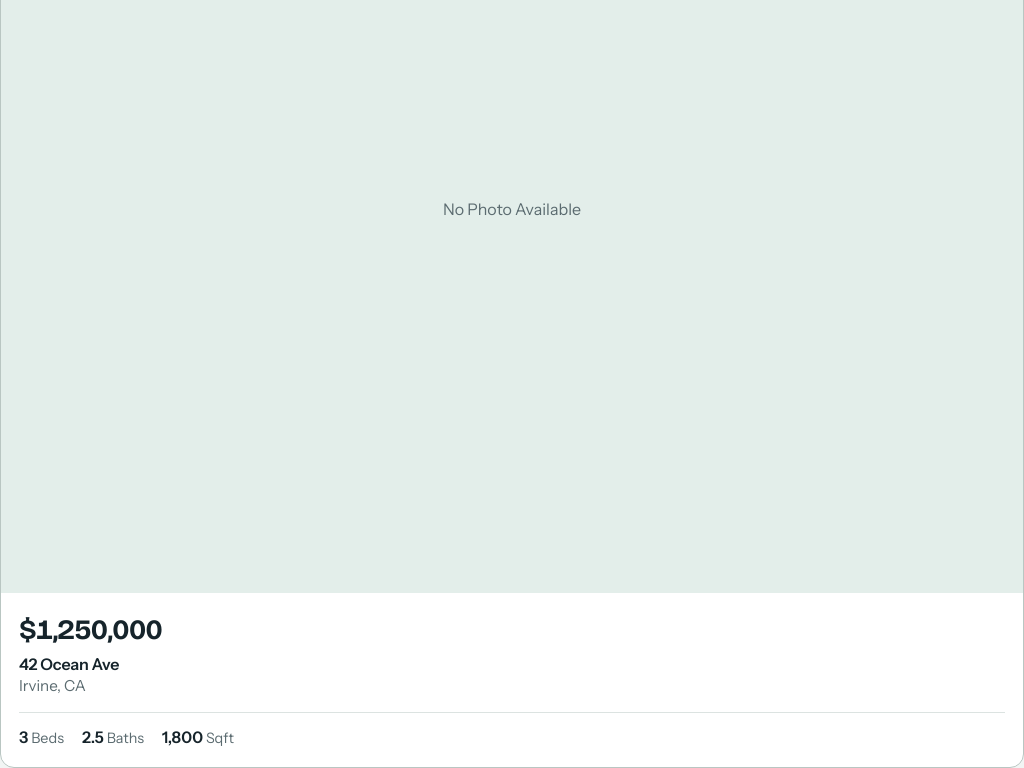
clicking the card details still navigates
(page scrolled)
What coordinates should you click on to do the following:
click the heading "42 Ocean Ave"
I would click on:
 (69, 664)
Its box is [19,654,119,674].
(page scrolled)
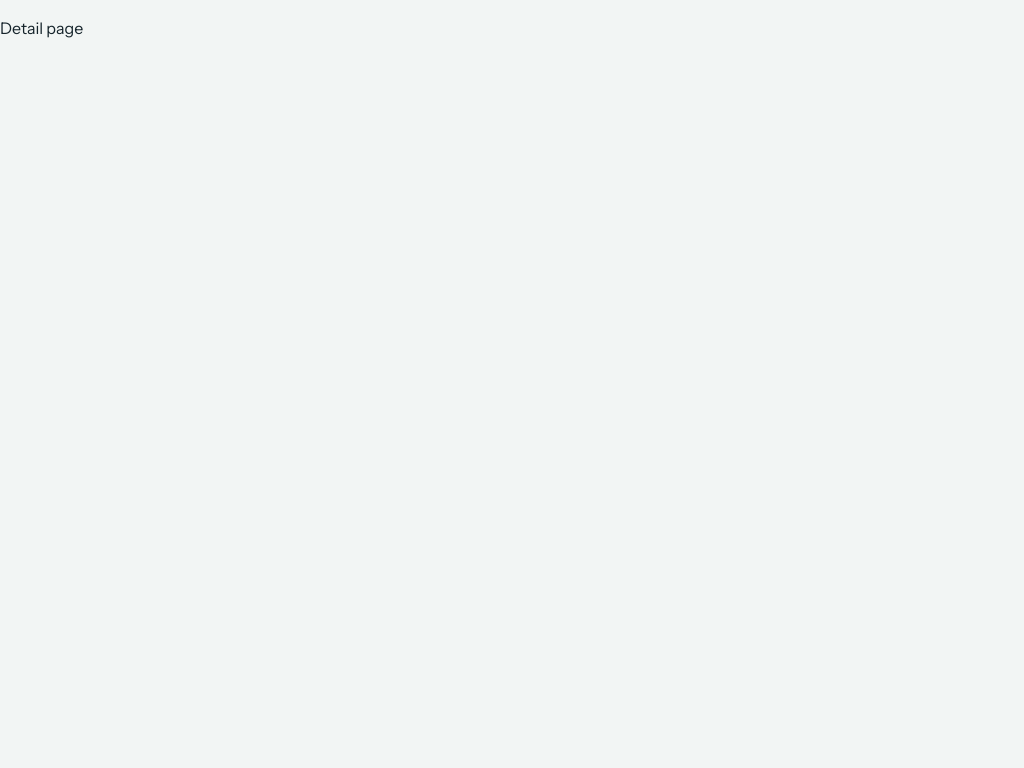
Check: the text "Detail page" is shown, box [0,18,83,38]
